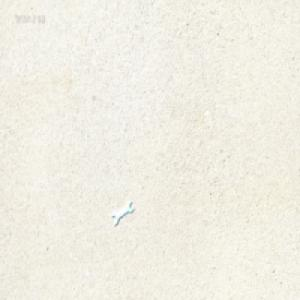Wrench: (112, 199, 134, 225)
